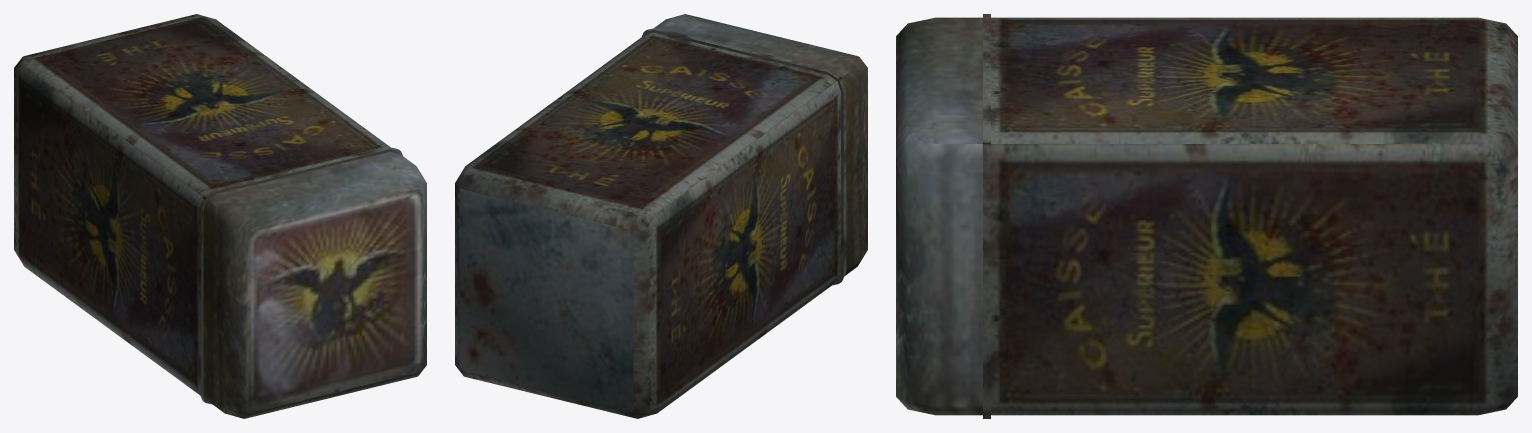
The model's file is prop_tinbox_square_tall01.glb.
3 renders of one model, left to right at view 1: azimuth 30°, elevation 25°; view 2: azimuth 150°, elevation 25°; view 3: azimuth 270°, elevation 25°, orthographic. The views are drawn at different scales.
Bounding box in the file's own units: 3.79 × 3.79 × 7.38.
Materials: 1 (1 with a texture image).
